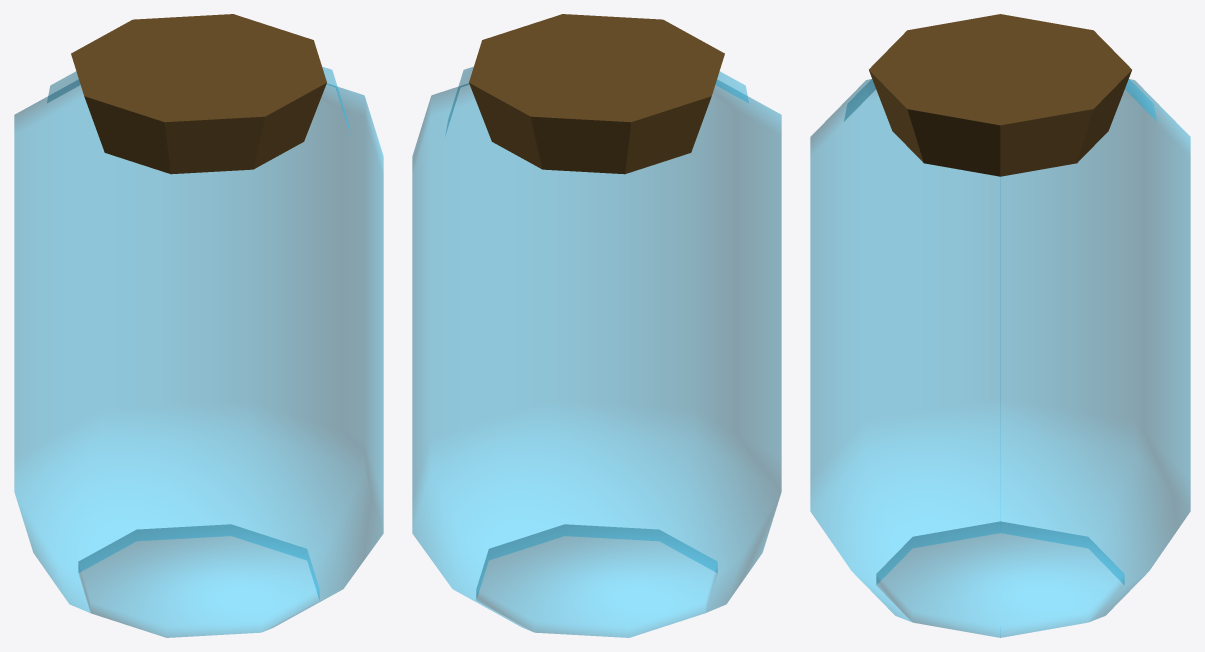
Rendered from FairyJar.glb.
3 renders of one model, left to right at view 1: azimuth 30°, elevation 25°; view 2: azimuth 150°, elevation 25°; view 3: azimuth 270°, elevation 25°, orthographic.
Visible parts, largest first — view 1: Circle; view 2: Circle; view 3: Circle.
Part boxes in pixels (x1,y1,x2,y2): Circle: (14,14,383,637); Circle: (412,14,781,637); Circle: (810,14,1190,637).
Size of the model in its own units: 1 by 1.5 by 1.
